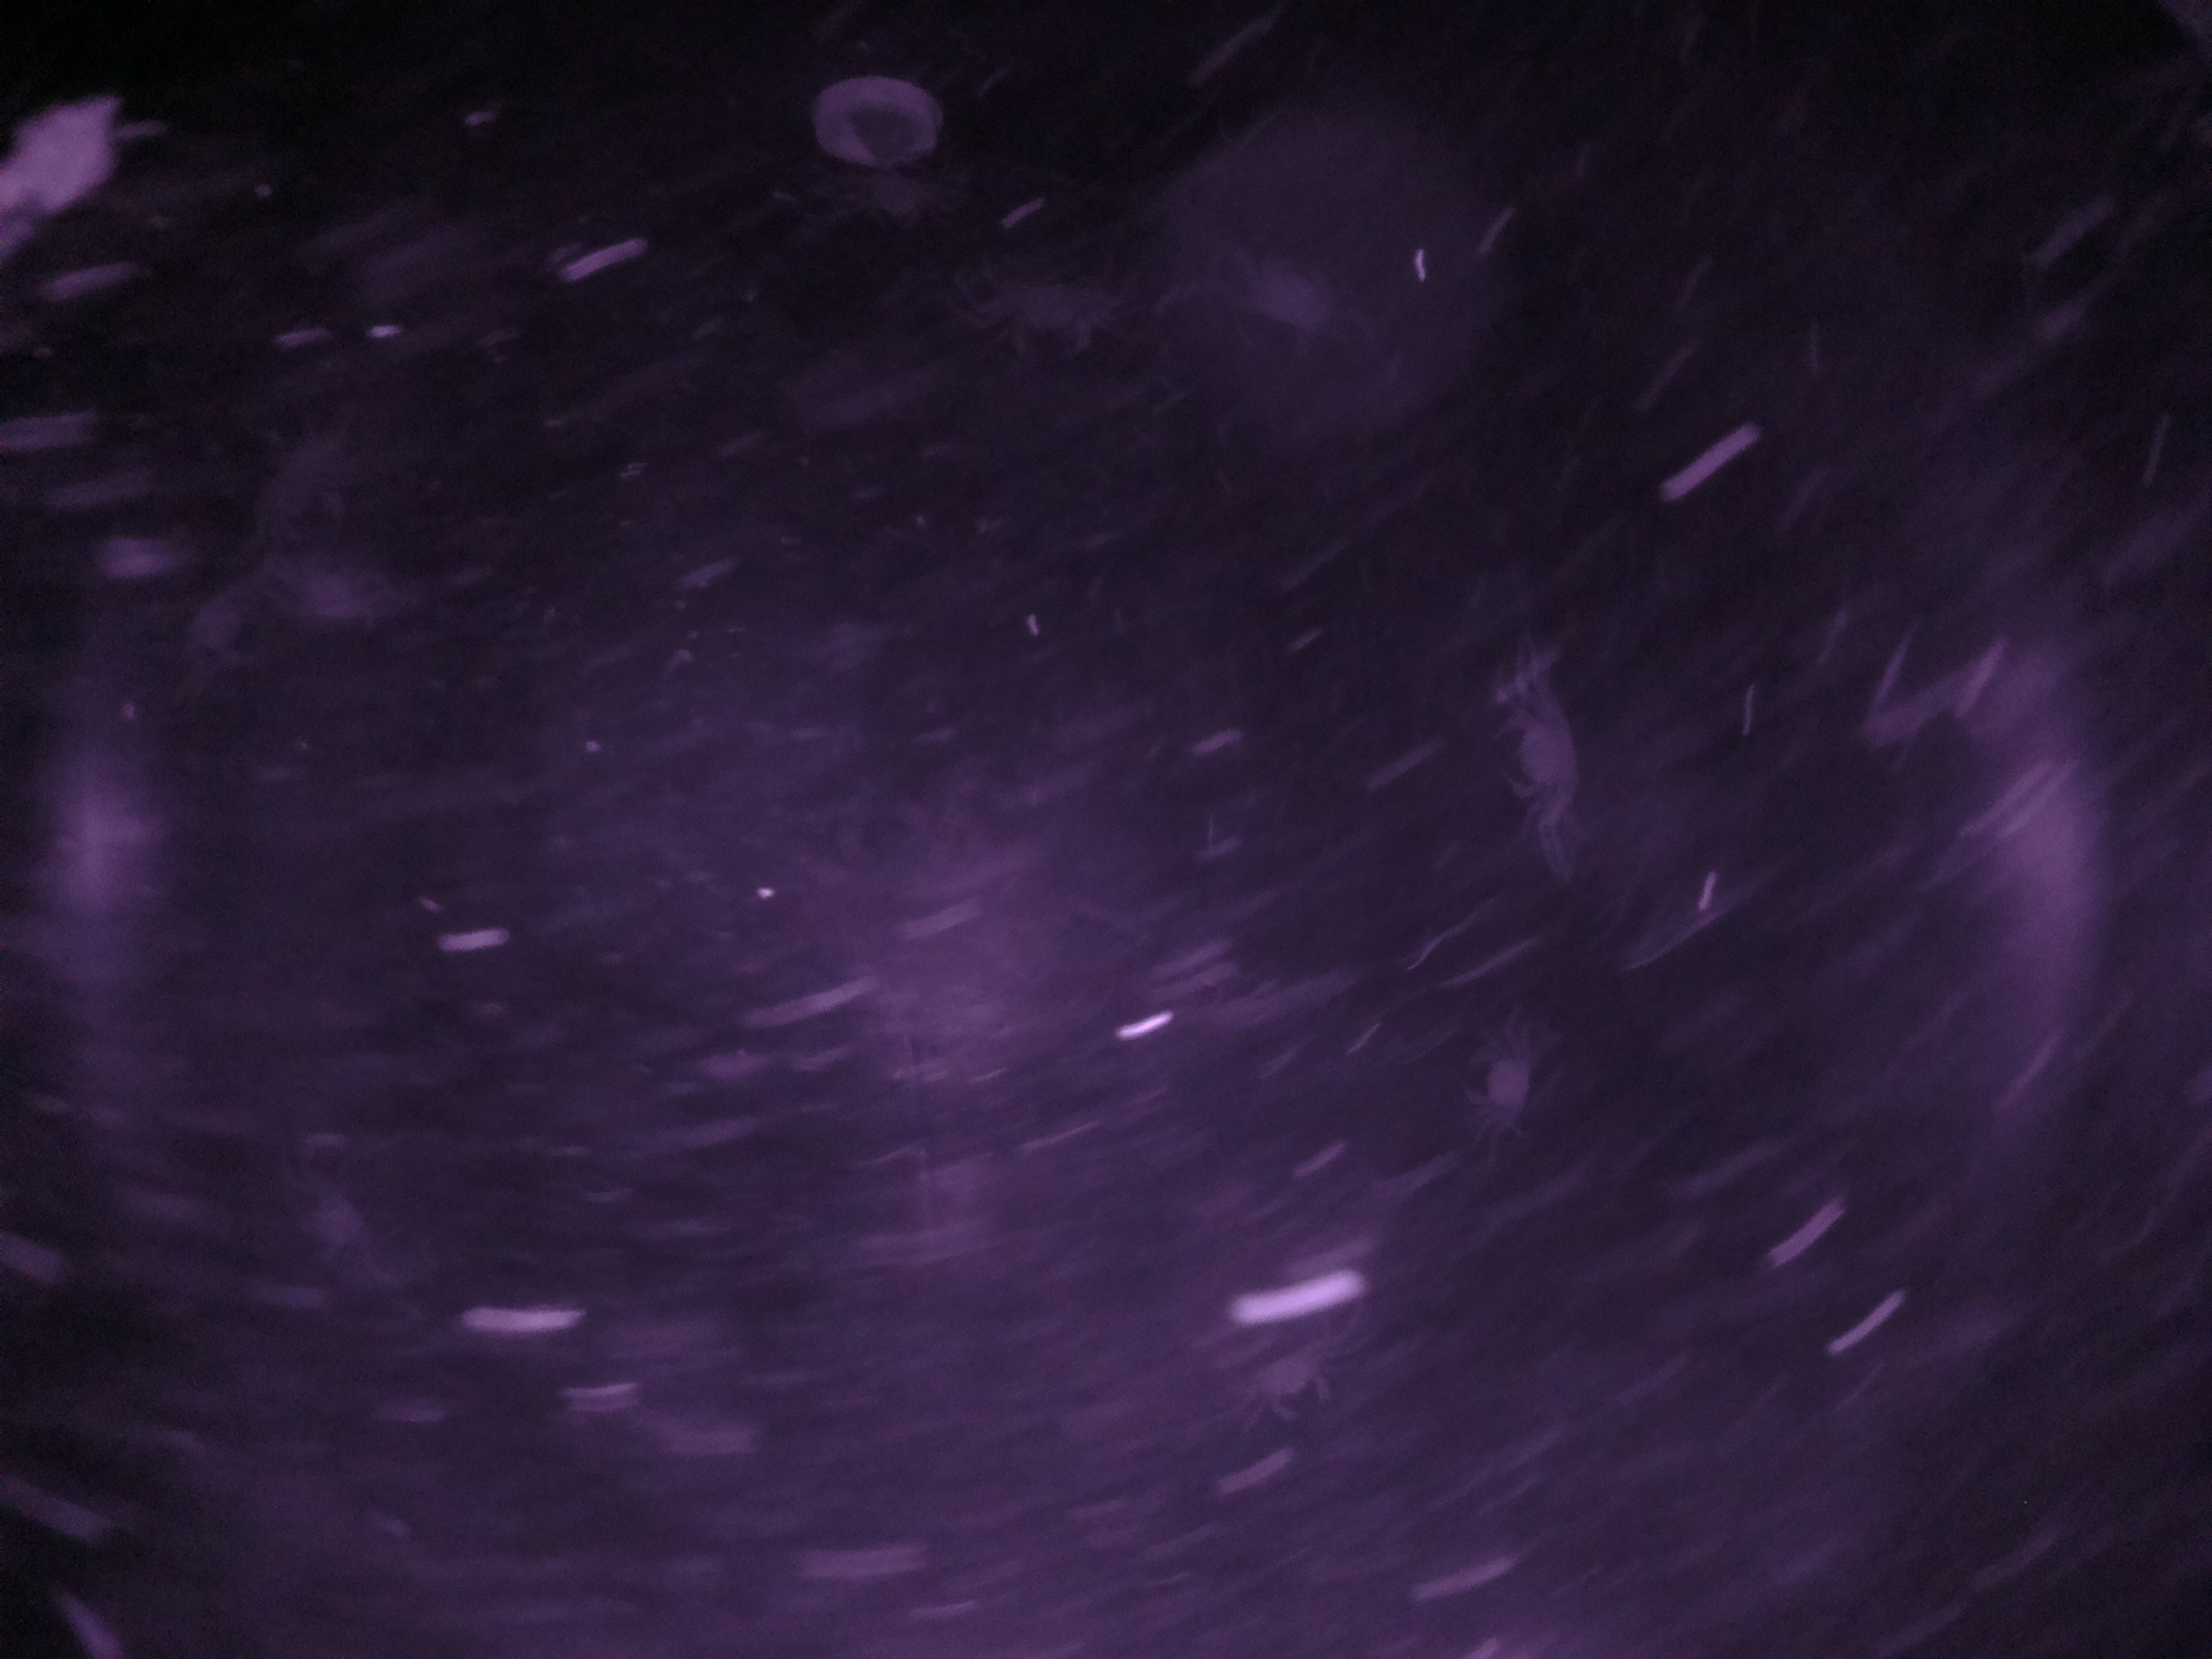Crab: (1489, 692, 1606, 826)
